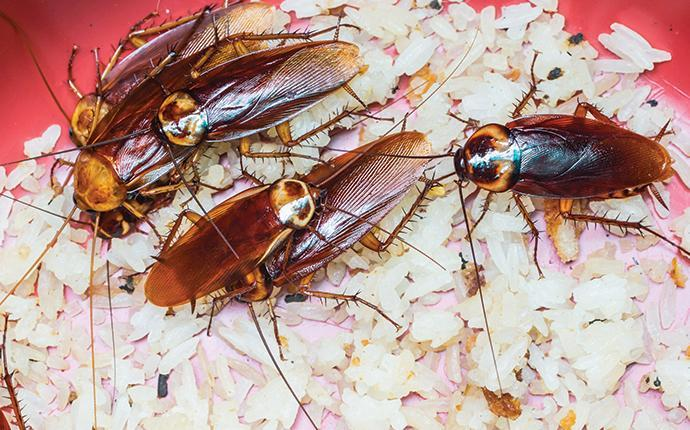cockroach: (223, 127, 433, 306), (72, 33, 273, 210), (70, 0, 292, 141), (142, 172, 331, 308), (448, 104, 678, 214), (156, 39, 362, 150)
